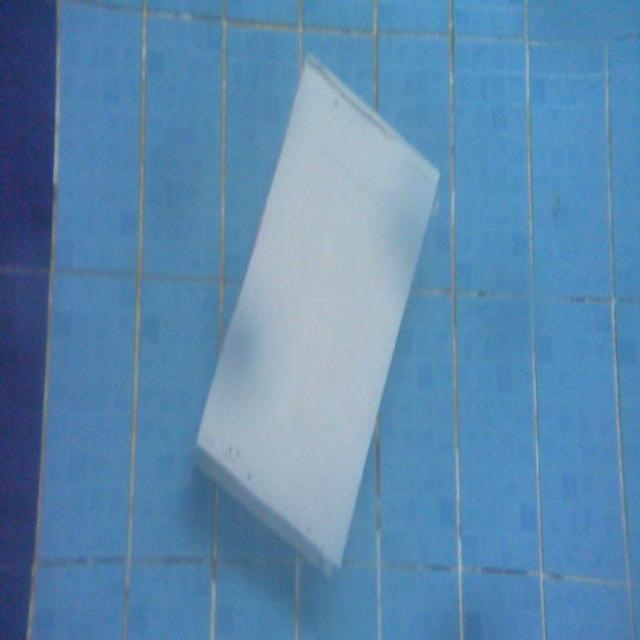Cuboid: (192, 48, 440, 572)
